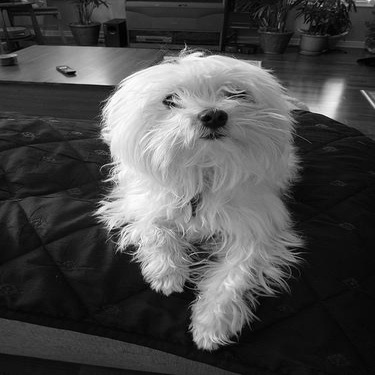dog: (68, 35, 319, 355)
